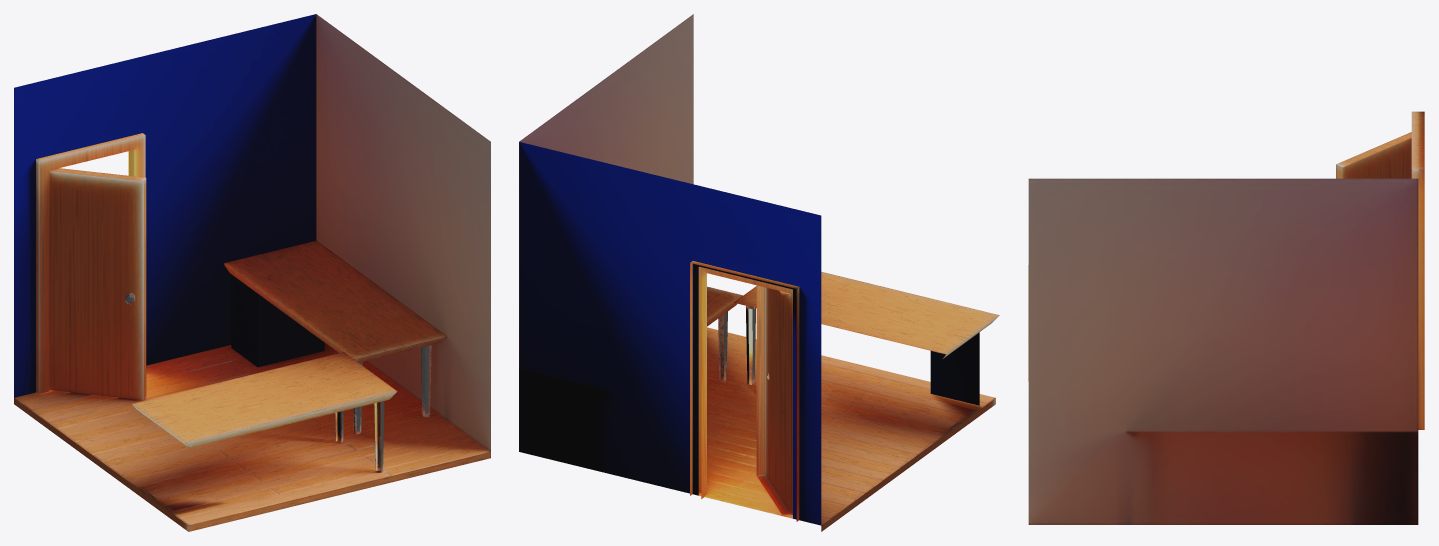
File: Office.glb
The picture shows the model from 3 angles, left to right: view 1: azimuth 30°, elevation 25°; view 2: azimuth 150°, elevation 25°; view 3: azimuth 270°, elevation 25°; orthographic projection. The views are drawn at different scales.
Parts seen in each view (by area): view 1: Walls.001_Baked, Planks.001_Baked, Door.001_Baked, Desk.001_Baked, Desk_Baked, Foundation.001_Baked; view 2: Walls.001_Baked, Planks.001_Baked, Door.001_Baked, Desk_Baked, Desk.001_Baked, Foundation.001_Baked; view 3: Walls.001_Baked, Door.001_Baked.
Boxes of the visible parts, x1,y1,x2,y2 form: Walls.001_Baked: (14,14,490,451); Planks.001_Baked: (14,343,490,525); Door.001_Baked: (36,133,146,400); Desk.001_Baked: (223,240,446,434); Desk_Baked: (132,352,397,472); Foundation.001_Baked: (14,398,490,531); Walls.001_Baked: (519,14,821,525); Planks.001_Baked: (698,327,995,525); Door.001_Baked: (690,261,799,521); Desk_Baked: (734,271,999,405); Desk.001_Baked: (707,286,742,382); Foundation.001_Baked: (821,398,995,531); Walls.001_Baked: (1028,178,1418,524); Door.001_Baked: (1336,111,1424,429).
Bounding box in the file's own units: 1.01 × 1 × 1.02.
Materials: 1 (1 with a texture image).
